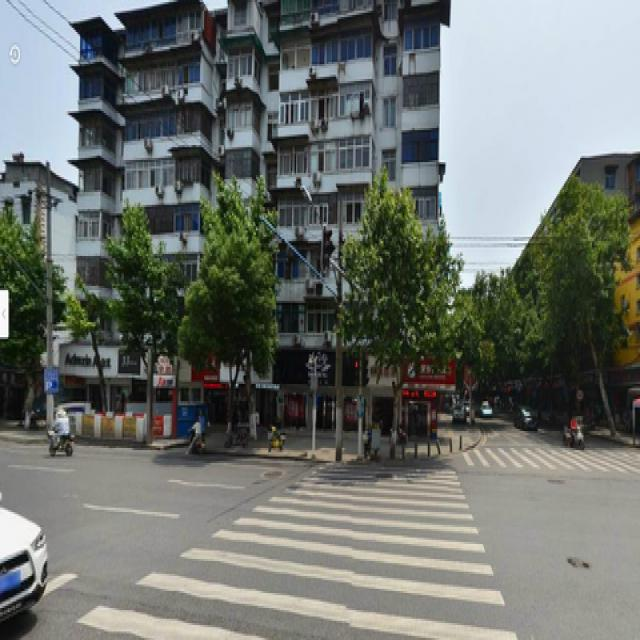cinn: (201, 254, 260, 437)
meta: (364, 211, 431, 465)
